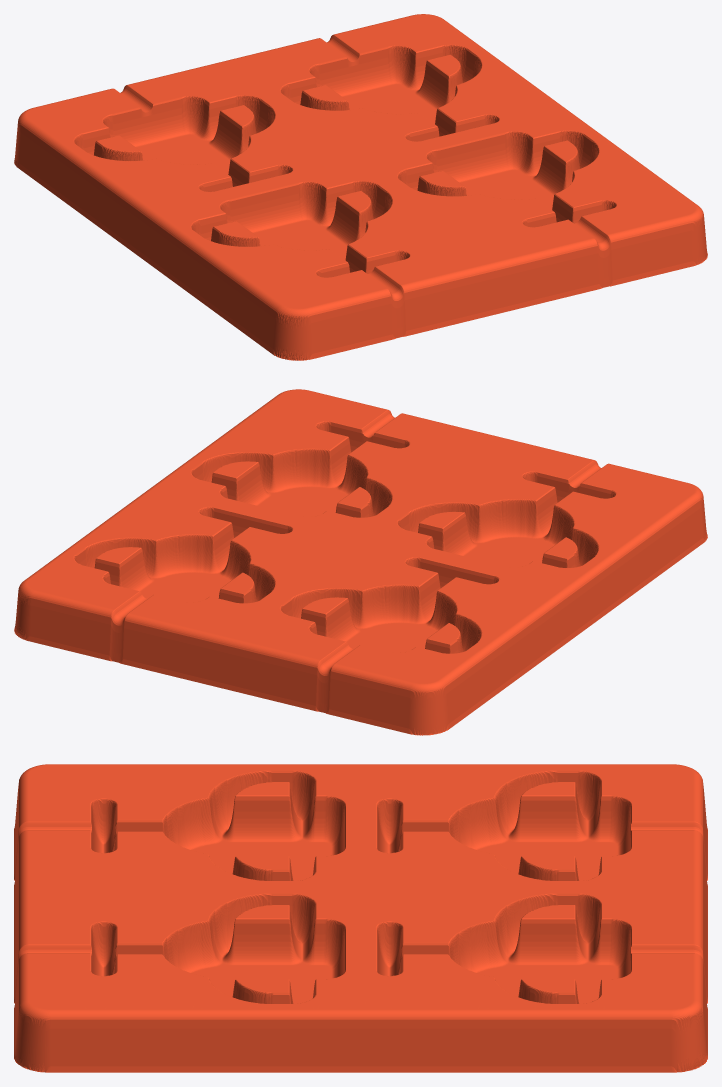
Rendered from mold.glb.
3 renders of one model, top to bottom at view 1: azimuth 30°, elevation 25°; view 2: azimuth 150°, elevation 25°; view 3: azimuth 270°, elevation 25°, orthographic. The views are drawn at different scales.
Parts seen in each view (by area): view 1: geometry_0; view 2: geometry_0; view 3: geometry_0.
Boxes of the visible parts, left/top/right/bottom form: geometry_0: left=14, top=14, right=707, bottom=360; geometry_0: left=14, top=389, right=707, bottom=735; geometry_0: left=14, top=764, right=707, bottom=1072.
Size of the model in its own units: 0.1497 by 0.0155 by 0.1709.
